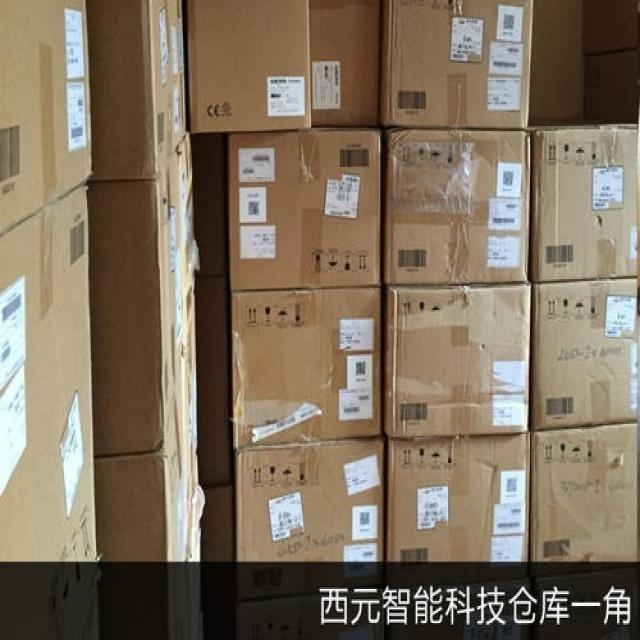box: (0, 184, 101, 563), (88, 163, 175, 458), (229, 126, 381, 291), (232, 286, 381, 451), (379, 123, 531, 284), (381, 281, 532, 439), (380, 0, 532, 129), (383, 431, 531, 562), (234, 434, 385, 562), (530, 123, 640, 283), (530, 277, 640, 431), (187, 0, 312, 134), (530, 422, 640, 563), (86, 0, 170, 182), (96, 400, 187, 563), (310, 0, 381, 126), (174, 322, 206, 560), (196, 276, 232, 487), (169, 133, 200, 363), (530, 0, 584, 124), (192, 134, 227, 277), (584, 48, 640, 123), (166, 0, 187, 157), (581, 0, 639, 54), (201, 483, 234, 565)
